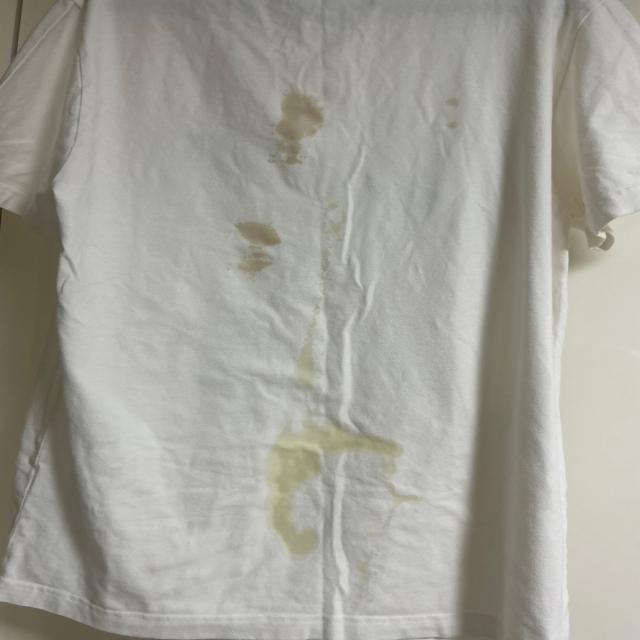stain: (249, 421, 406, 474), (268, 473, 336, 560), (277, 91, 326, 179), (288, 306, 336, 392), (239, 218, 279, 280), (312, 204, 345, 254), (446, 85, 476, 131)
